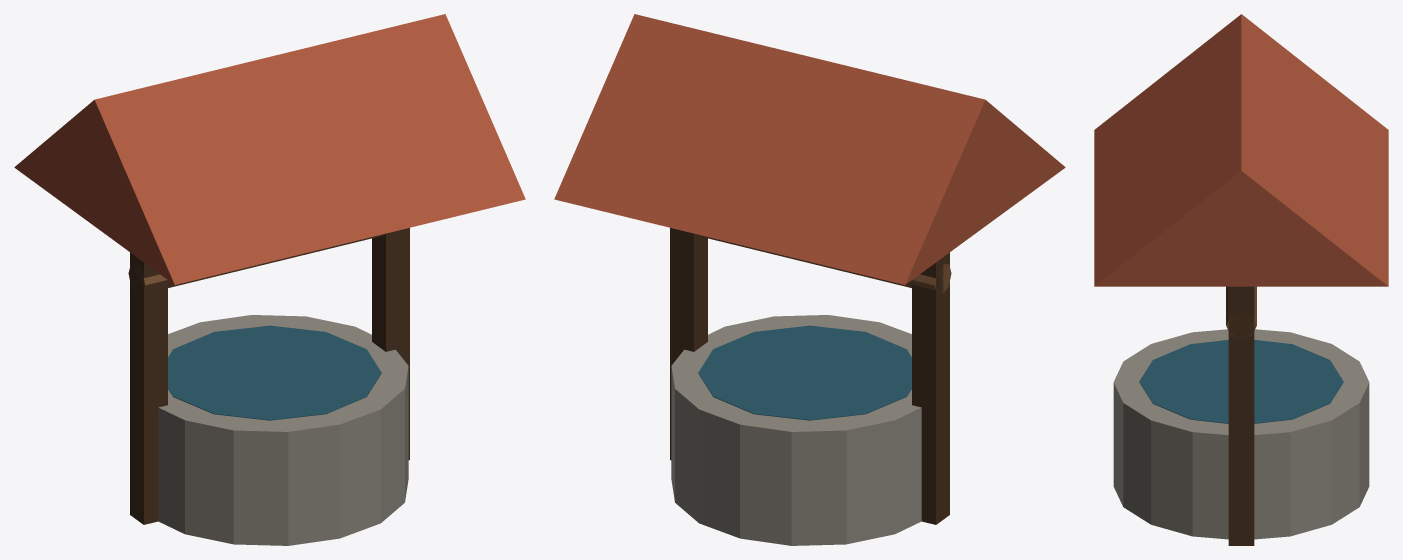
The model's file is well.glb.
The picture shows the model from 3 angles, left to right: view 1: azimuth 30°, elevation 25°; view 2: azimuth 150°, elevation 25°; view 3: azimuth 270°, elevation 25°; orthographic projection. The views are drawn at different scales.
Parts seen in each view (by area): view 1: Well; view 2: Well; view 3: Well.
Boxes of the visible parts, x1,y1,x2,y2 form: Well: [14, 14, 525, 545]; Well: [554, 14, 1065, 545]; Well: [1094, 14, 1388, 545].
Bounding box in the file's own units: 2.9 × 3.4 × 2.3.
